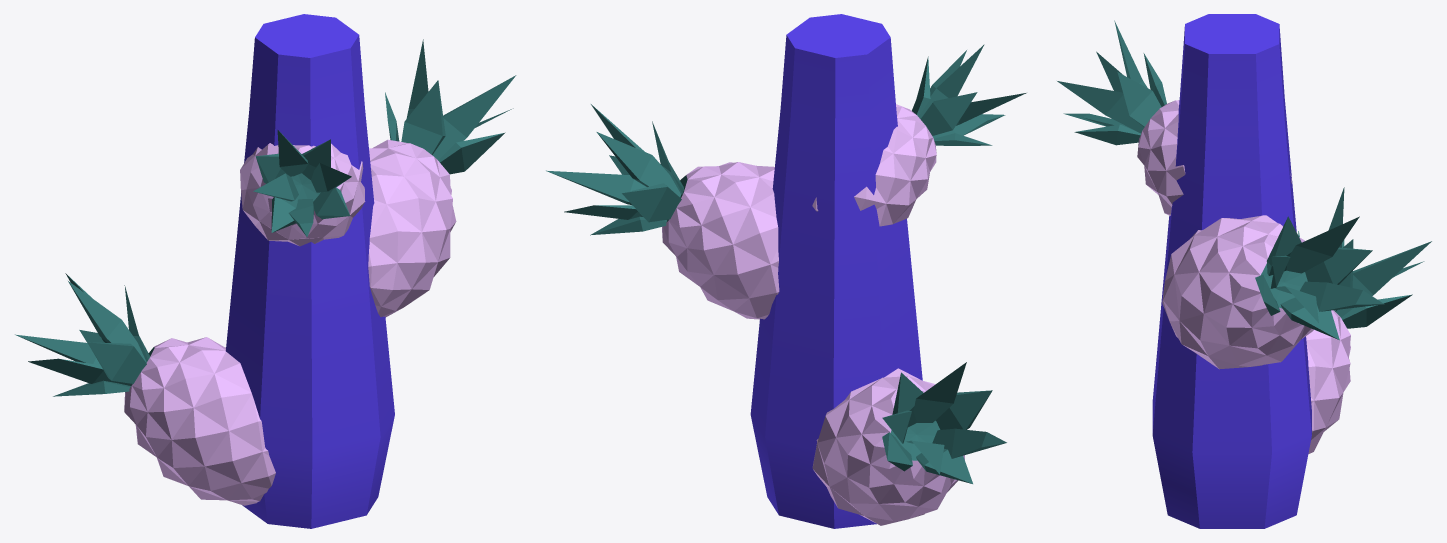
The model's file is 054_Pineapple.fbx.
3 views of the same model, side by side, from view 1: azimuth 30°, elevation 25°; view 2: azimuth 150°, elevation 25°; view 3: azimuth 270°, elevation 25° (orthographic).
Visible parts, largest first — view 1: PineApple; view 2: PineApple; view 3: PineApple.
Boxes of the visible parts, <box> form: PineApple: <box>15,14,516,528</box>; PineApple: <box>546,14,1026,528</box>; PineApple: <box>1057,14,1431,528</box>.
Size of the model in its own units: 107 by 100 by 72.9.
